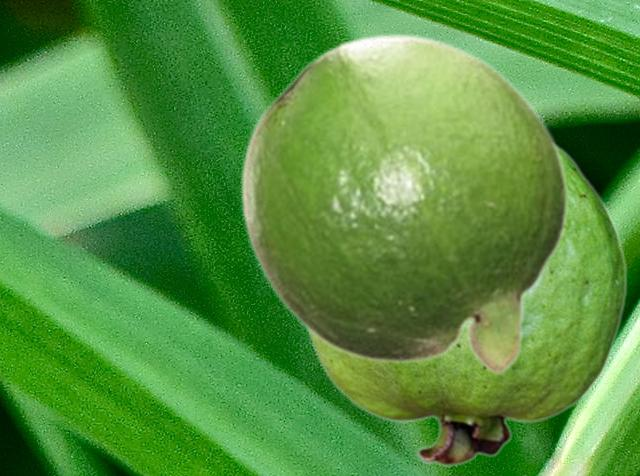guava: (238, 31, 568, 376), (303, 144, 627, 466)
